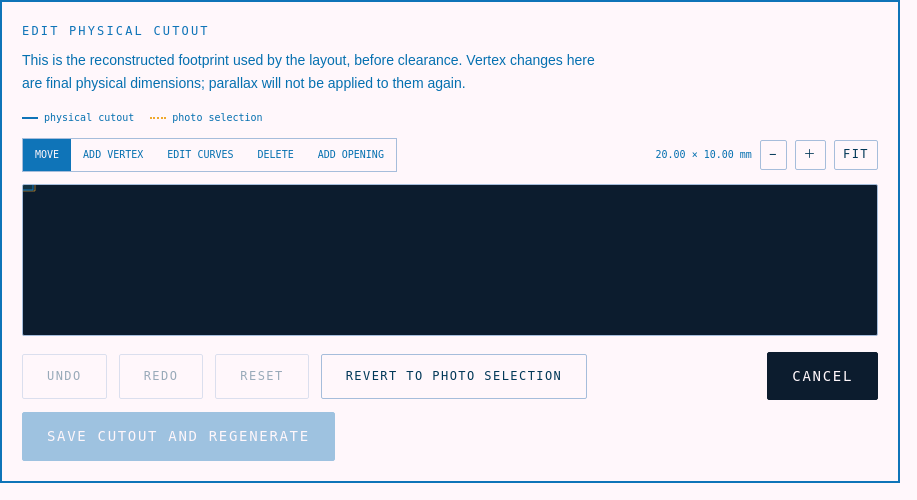
Test: PhysicalCutoutEditor photo-selection baseline › clicking revert restores the photo baseline and enables Save
The width and height of the screenshot is (917, 500).
Click the button "Revert to photo selection" at (454, 376), box top-left (321, 354), bottom-right (587, 399)
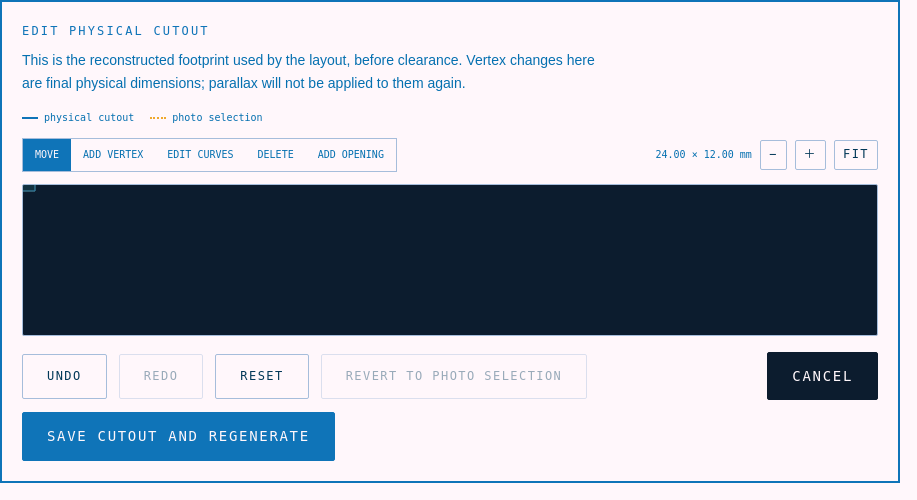
Expected: the button "Revert to photo selection" is disabled, top-left (321, 354), bottom-right (587, 399)
Expected: the button "Save cutout and regenerate" is enabled, top-left (22, 412), bottom-right (335, 461)
Expected: the text "24.00 × 12.00 mm" is shown, top-left (656, 147), bottom-right (752, 163)
